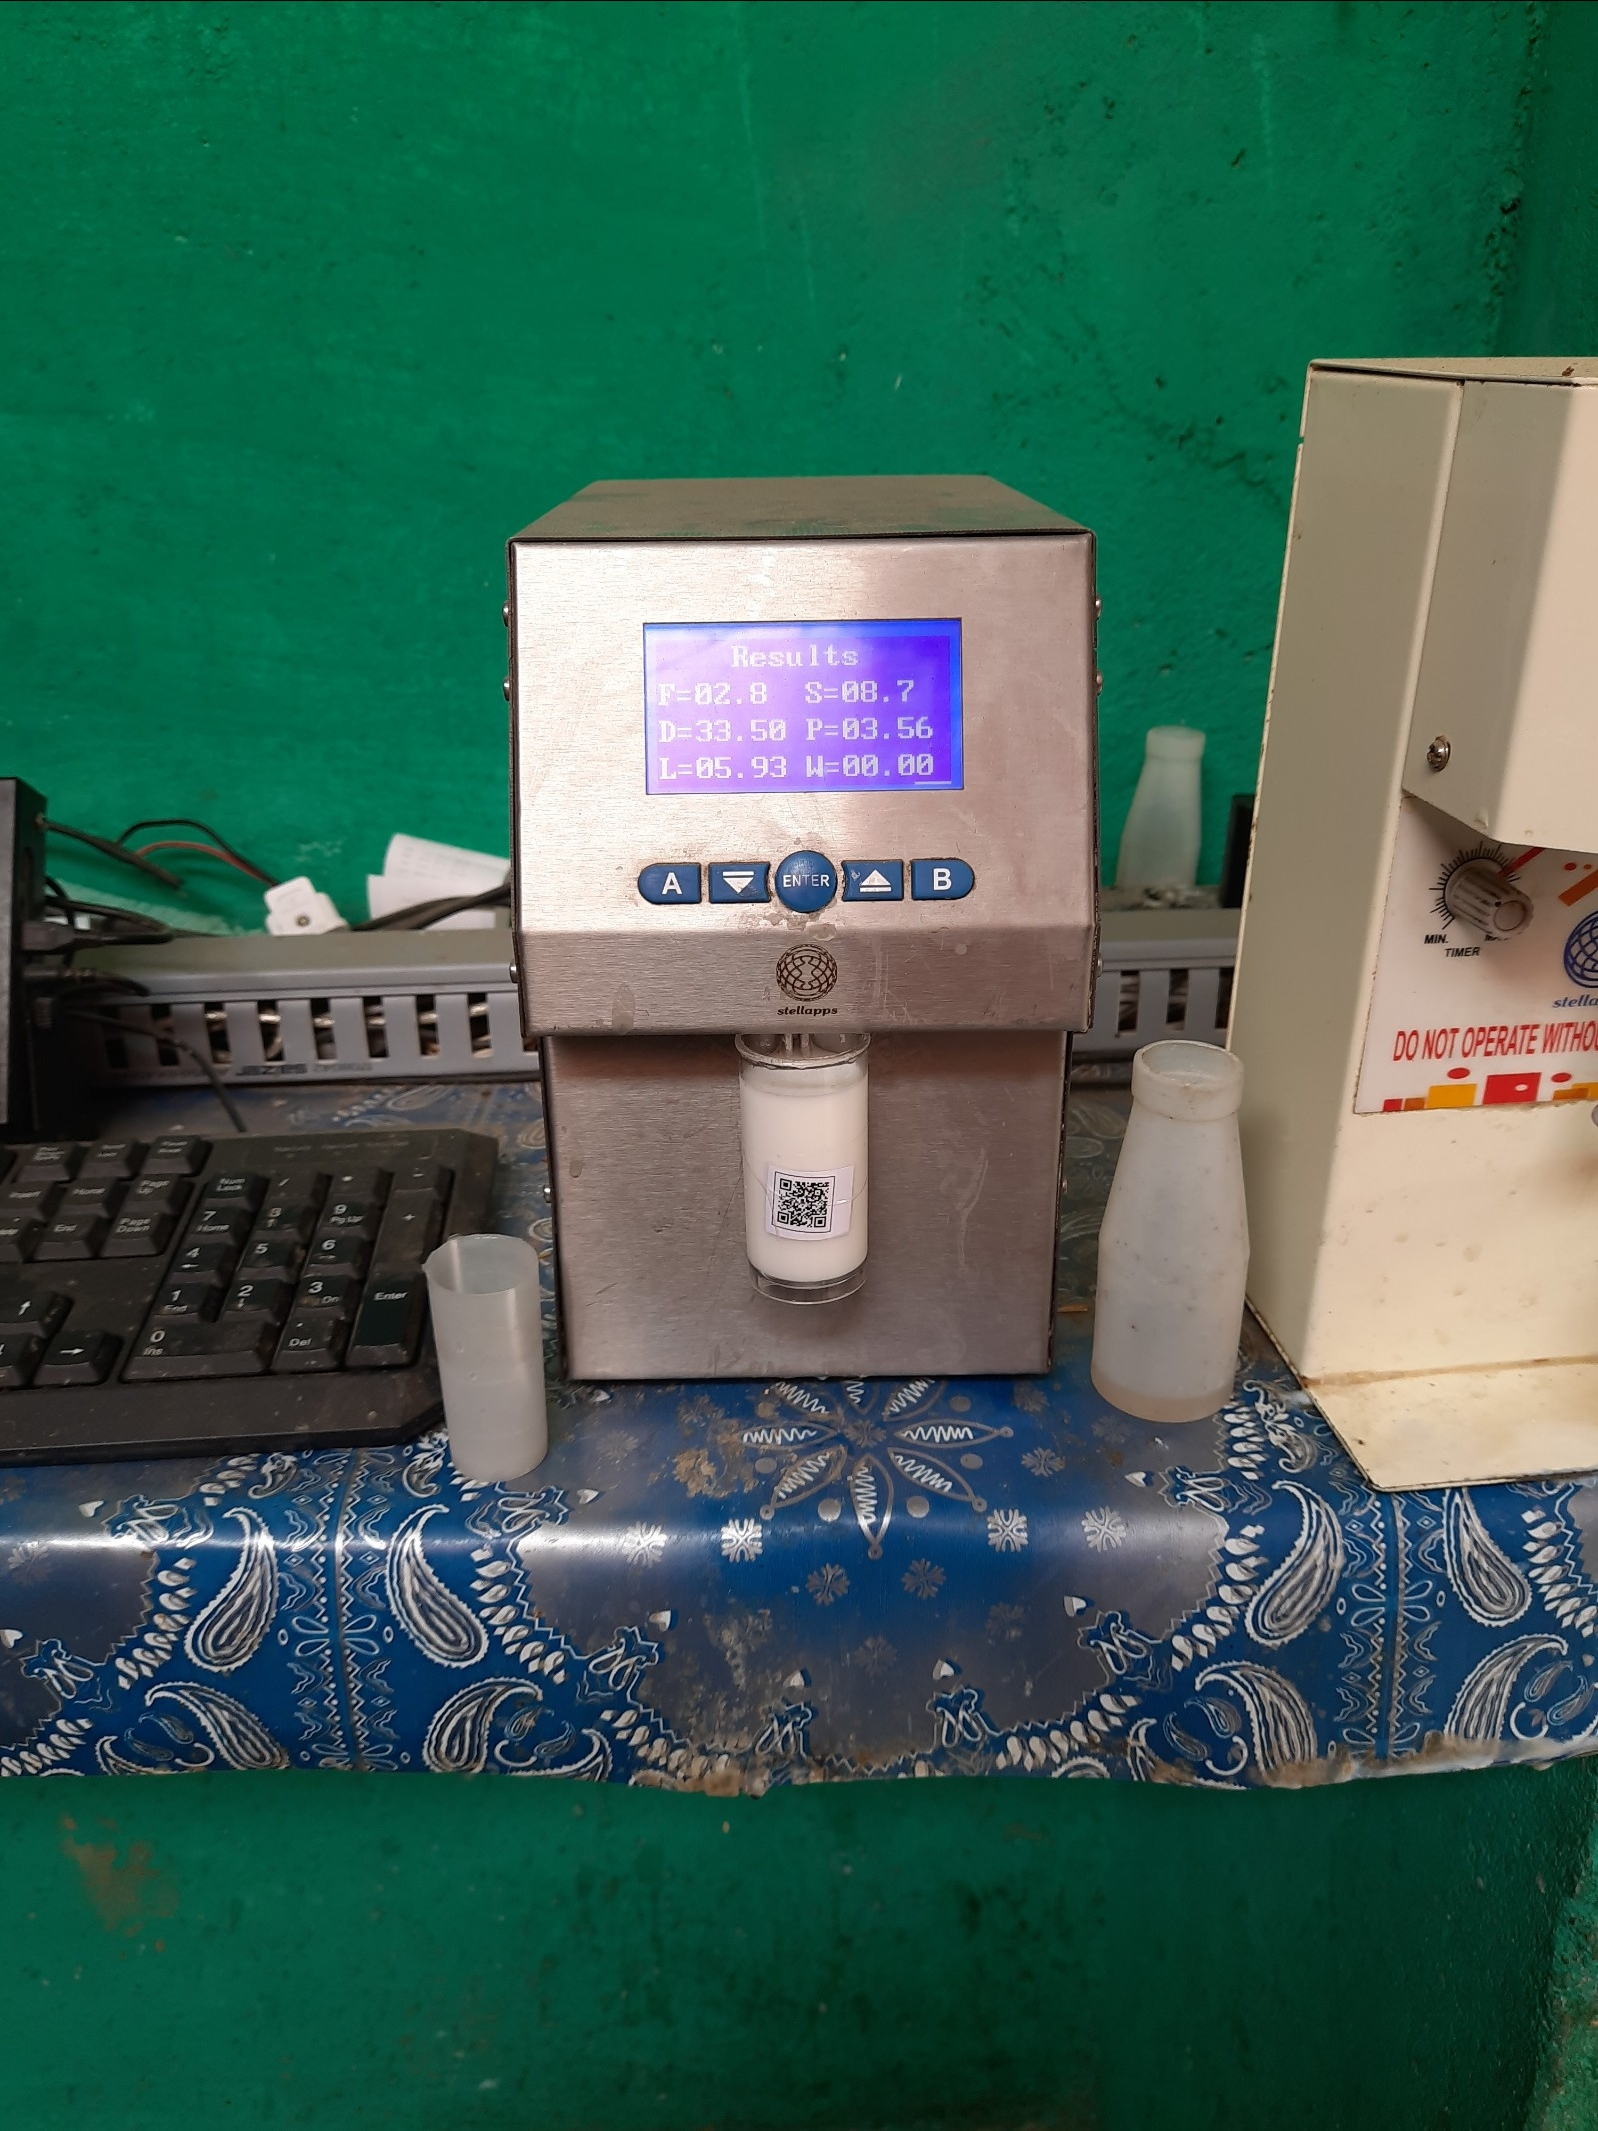lcd: (634, 612, 974, 800)
qr: (764, 1163, 848, 1237)
